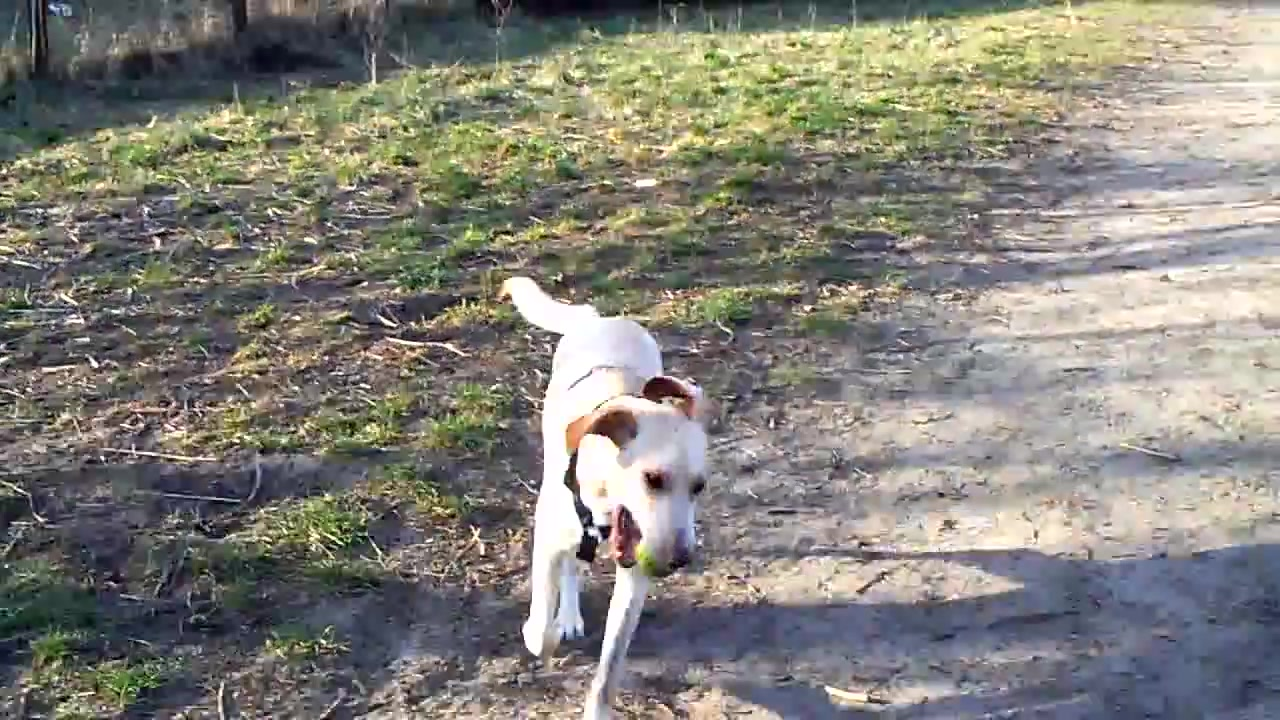dog: (493, 274, 716, 720)
